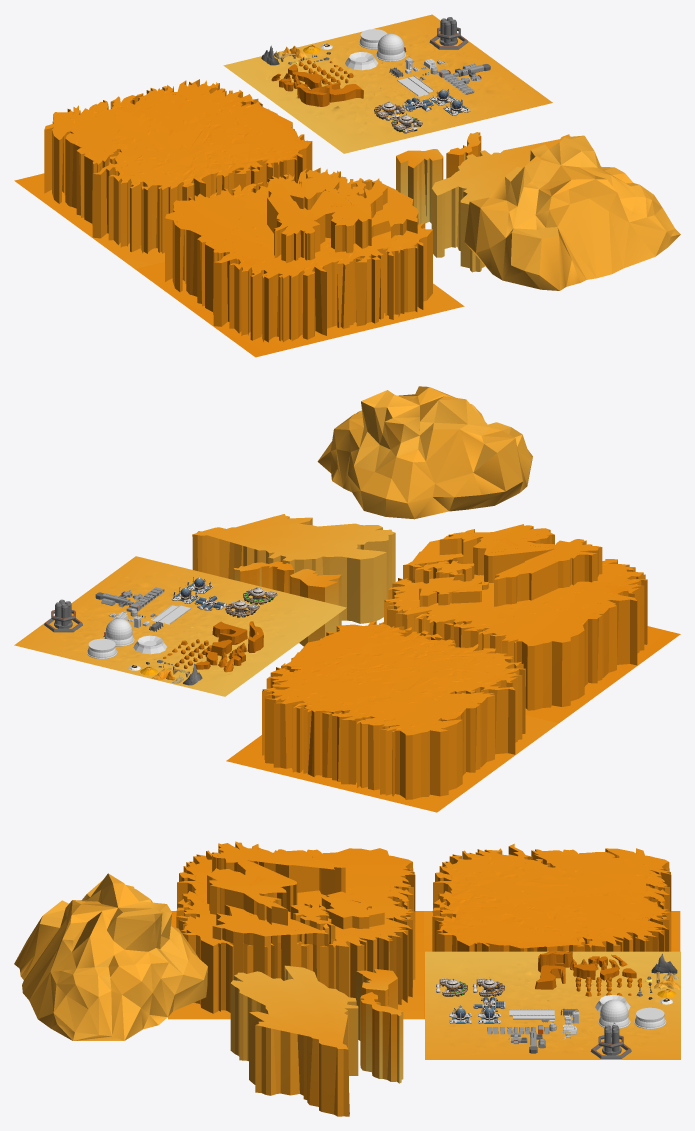
File: refA.fbx
The picture shows the model from 3 angles, top to bottom: view 1: azimuth 30°, elevation 25°; view 2: azimuth 150°, elevation 25°; view 3: azimuth 270°, elevation 25°; orthographic projection. The views are drawn at different scales.
Parts seen in each view (by area): view 1: Landscape.009, Landscape.001, RHE_CaveTop.007, Landscape, Landscape.010, Landscape.013, Landscape.012, Cylinder.012, Cylinder.001, Landscape.008, Landscape.006; view 2: Landscape.001, Landscape.009, RHE_CaveTop.007, Landscape, Landscape.010, Landscape.013, Landscape.012, Cylinder.012, Cylinder.001; view 3: Landscape.009, Landscape.001, RHE_CaveTop.007, Landscape, Landscape.010, Landscape.012, Landscape.013, Cylinder.012, Cylinder.001, Landscape.006, Landscape.008, Лаборатория.001 (+1 smaller).
Part boxes in pixels (x1=…): Landscape.009: x1=135, y1=167, x2=464, y2=357; Landscape.001: x1=14, y1=79, x2=312, y2=268; RHE_CaveTop.007: x1=464, y1=135, x2=680, y2=290; Landscape: x1=223, y1=14, x2=552, y2=153; Landscape.010: x1=431, y1=134, x2=570, y2=272; Landscape.013: x1=396, y1=149, x2=443, y2=225; Landscape.012: x1=446, y1=132, x2=481, y2=178; Cylinder.012: x1=429, y1=17, x2=468, y2=49; Cylinder.001: x1=376, y1=33, x2=405, y2=61; Landscape.008: x1=297, y1=83, x2=329, y2=106; Landscape.006: x1=325, y1=82, x2=363, y2=102; Landscape.001: x1=226, y1=621, x2=558, y2=812; Landscape.009: x1=384, y1=524, x2=680, y2=723; RHE_CaveTop.007: x1=317, y1=386, x2=532, y2=519; Landscape: x1=14, y1=556, x2=346, y2=696; Landscape.010: x1=192, y1=514, x2=395, y2=623; Landscape.013: x1=290, y1=569, x2=341, y2=646; Landscape.012: x1=233, y1=561, x2=293, y2=593; Cylinder.012: x1=44, y1=599, x2=82, y2=632; Cylinder.001: x1=104, y1=618, x2=134, y2=646; Landscape.009: x1=168, y1=841, x2=423, y2=1019; Landscape.001: x1=424, y1=843, x2=680, y2=1019; RHE_CaveTop.007: x1=14, y1=873, x2=207, y2=1040; Landscape: x1=425, y1=951, x2=680, y2=1059; Landscape.010: x1=230, y1=965, x2=358, y2=1116; Landscape.012: x1=360, y1=992, x2=403, y2=1083; Landscape.013: x1=356, y1=968, x2=397, y2=1040; Cylinder.012: x1=590, y1=1025, x2=631, y2=1058; Cylinder.001: x1=598, y1=999, x2=630, y2=1028; Landscape.006: x1=535, y1=965, x2=565, y2=989; Landscape.008: x1=538, y1=950, x2=572, y2=972; Лаборатория.001: x1=436, y1=978, x2=467, y2=996.
Bounding box in the file's own units: 100093 × 35036 × 130189.
